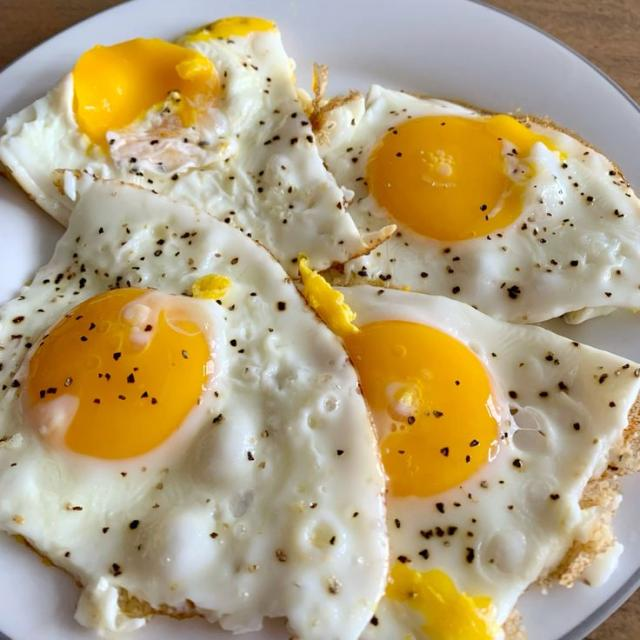fryed egg: (0, 178, 387, 639), (301, 261, 639, 639), (0, 18, 391, 272), (319, 87, 639, 322)
